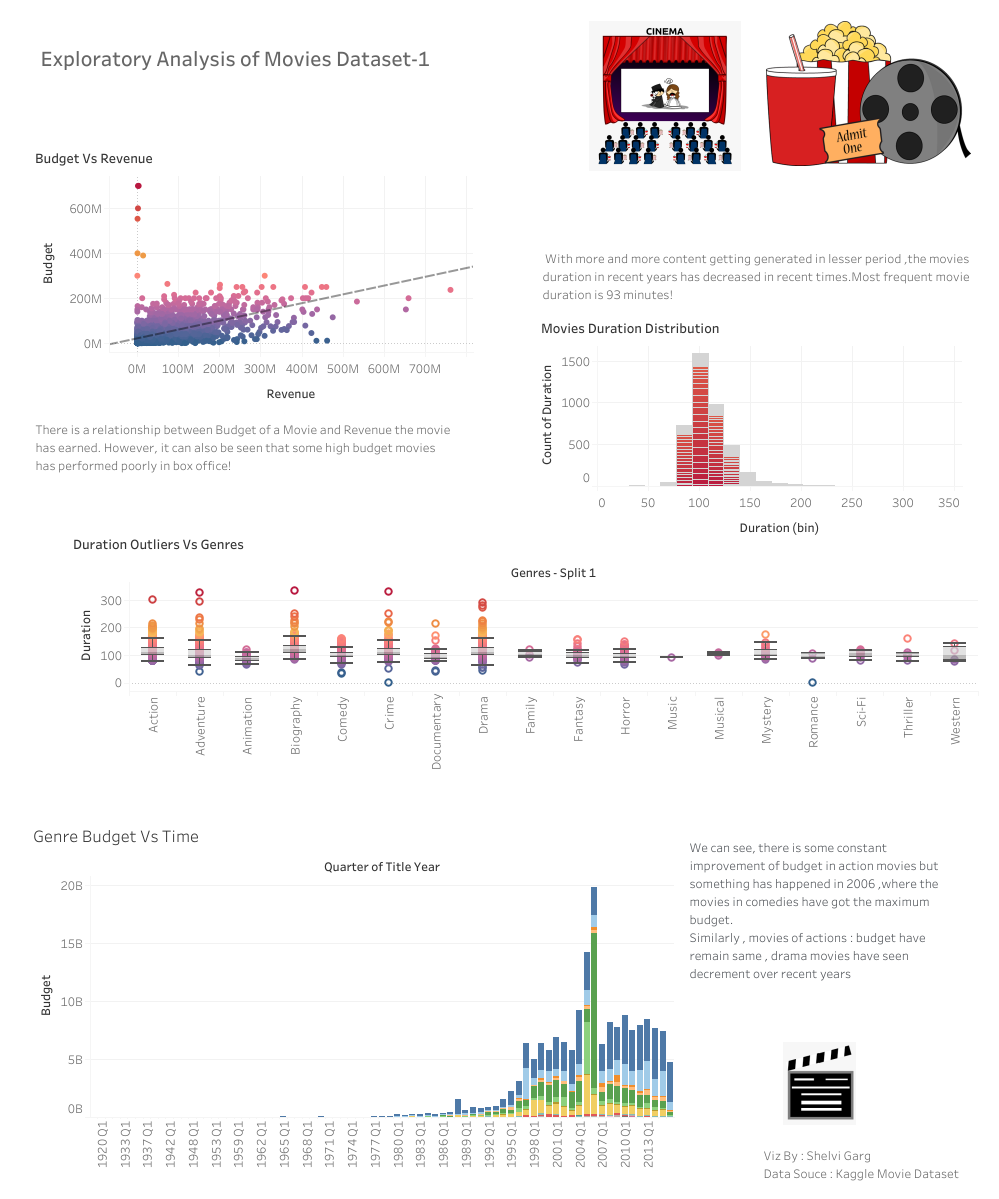

The dashboard page shown, as its layout file describes it:
{"tool":"tableau","page":{"name":"Dashboard 1 : Revenue, Budget and Genre","canvas":[1000,1200],"ordinal":0},"visuals":[{"type":"worksheet","box":[38,24,402,67.2]},{"type":"worksheet","param":"Image/0b44ff30dbe13528285e97eb23b3e185.png","box":[656,45,125,104]},{"type":"worksheet","param":"Image/18-183313_theater-clipart-movie-theater-clipart.png","box":[529,52,97,96]},{"type":"worksheet","title":"Budget Vs Revenue","mark":"Line","rows":["budget"],"cols":["gross"],"box":[44,177,406,204]},{"type":"worksheet","box":[592,231,394,76]},{"type":"worksheet","title":"Movies Duration Distribution","mark":"Automatic","rows":["duration"],"cols":["Duration (bin)"],"box":[583,312,379,184]},{"type":"worksheet","box":[46,385,406,66]},{"type":"worksheet","title":"Duration Outliers Vs Genres","mark":"Shape","rows":["duration"],"cols":["genres - Split 1"],"box":[69,528,844,225]},{"type":"worksheet","box":[714,825,255,169]},{"type":"worksheet","title":"Genre Budget Vs Time","mark":"Bar","rows":["budget"],"cols":["title_year"],"box":[86,828,571,311]},{"type":"worksheet","param":"Image/download.png","box":[783,1042,73,91]},{"type":"worksheet","box":[761,1143.6,201,40.8]}]}

Visuals, with their boxes in screenshot pixels (x1, y1, x2, y2), scaled from the page's 1000x1200 canvas onto the 999x1199 screenshot:
worksheet: (x1=38, y1=24, x2=440, y2=91)
worksheet: (x1=655, y1=45, x2=780, y2=149)
worksheet: (x1=528, y1=52, x2=625, y2=148)
"Budget Vs Revenue" worksheet (Line marks): (x1=44, y1=177, x2=450, y2=381)
worksheet: (x1=591, y1=231, x2=985, y2=307)
"Movies Duration Distribution" worksheet: (x1=582, y1=312, x2=961, y2=496)
worksheet: (x1=46, y1=385, x2=452, y2=451)
"Duration Outliers Vs Genres" worksheet (Shape marks): (x1=69, y1=528, x2=912, y2=752)
worksheet: (x1=713, y1=824, x2=968, y2=993)
"Genre Budget Vs Time" worksheet (Bar marks): (x1=86, y1=827, x2=656, y2=1138)
worksheet: (x1=782, y1=1041, x2=855, y2=1132)
worksheet: (x1=760, y1=1143, x2=961, y2=1183)
